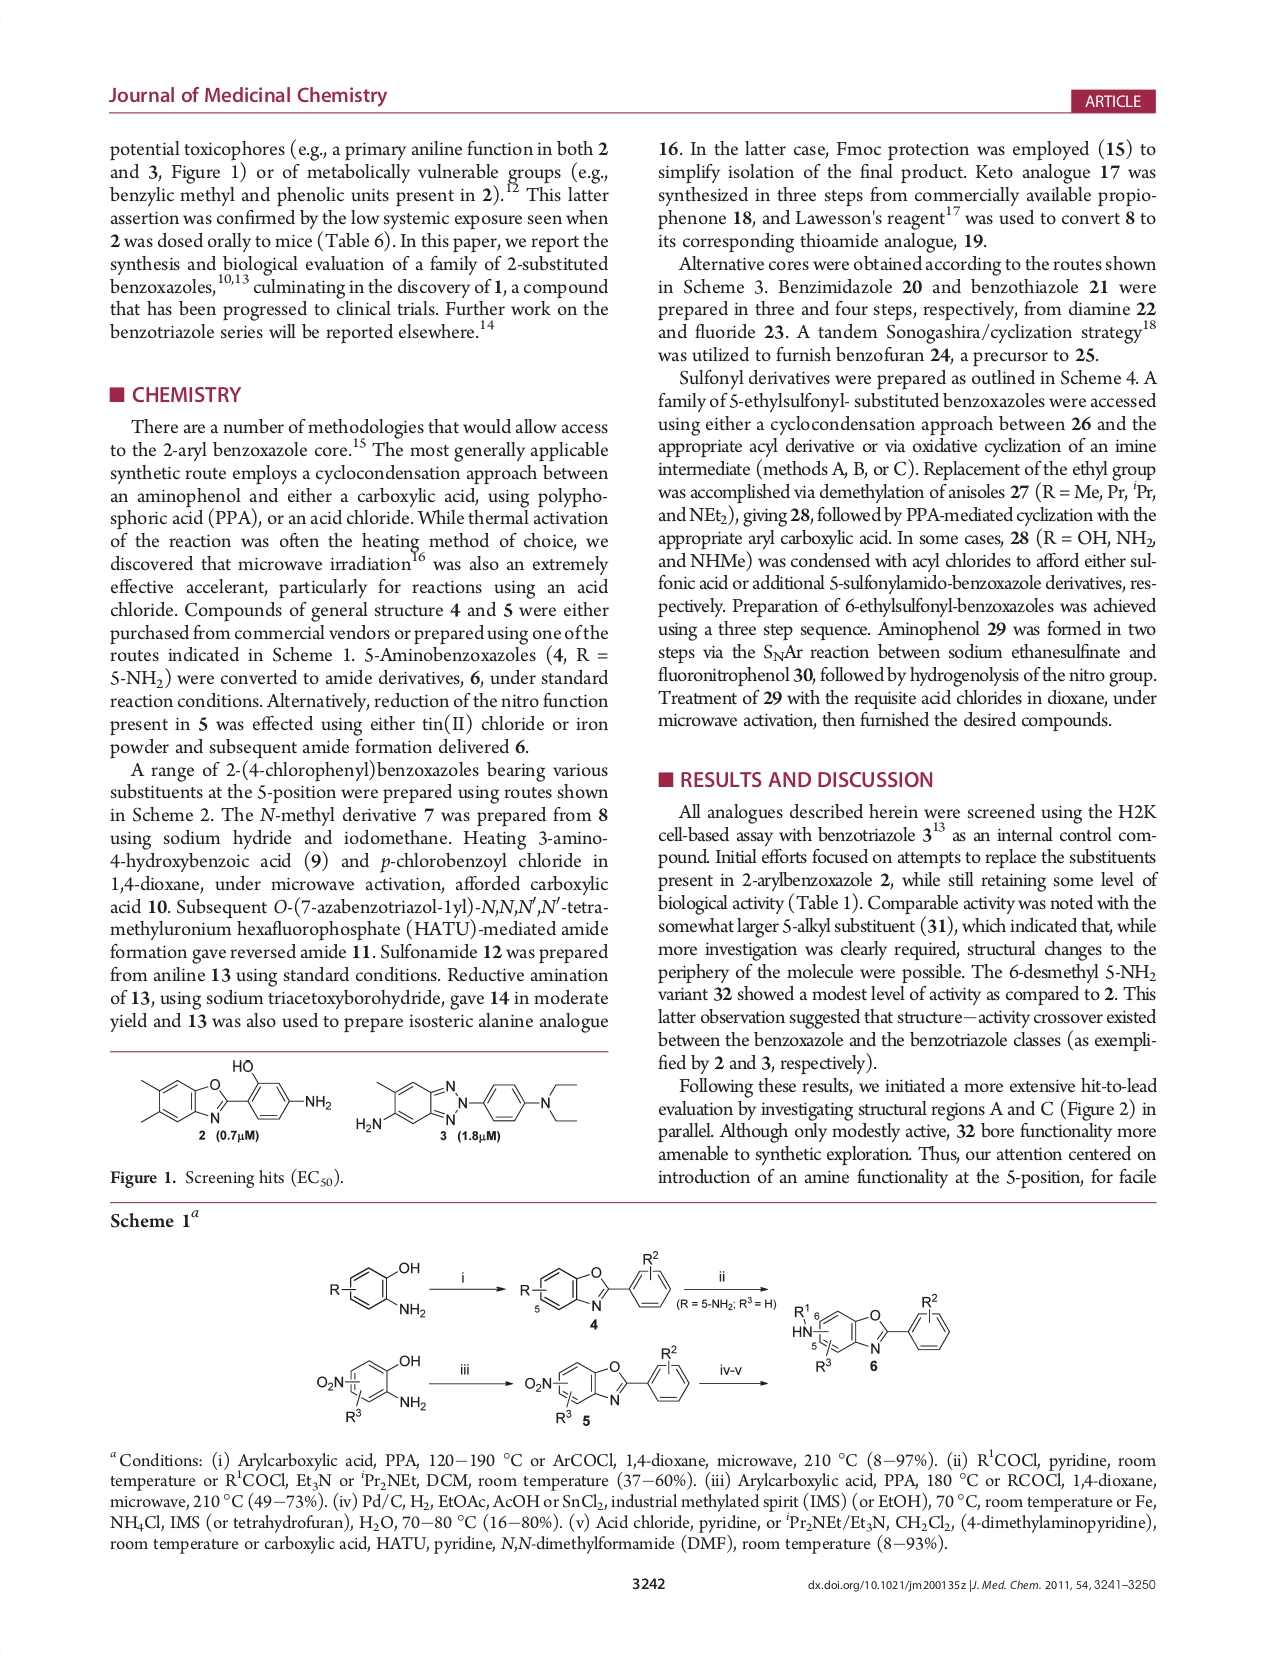exist_molecular: (350, 1071, 578, 1133), (789, 1290, 951, 1378), (524, 1343, 692, 1426), (136, 1057, 334, 1126), (517, 1249, 674, 1315), (314, 1352, 430, 1426), (324, 1250, 430, 1321)
